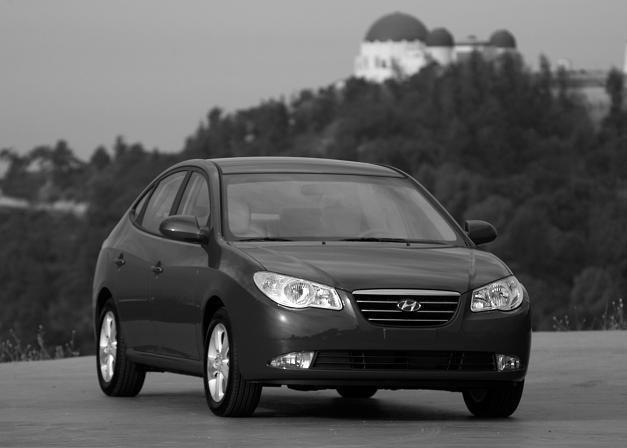car: (94, 158, 530, 421)
